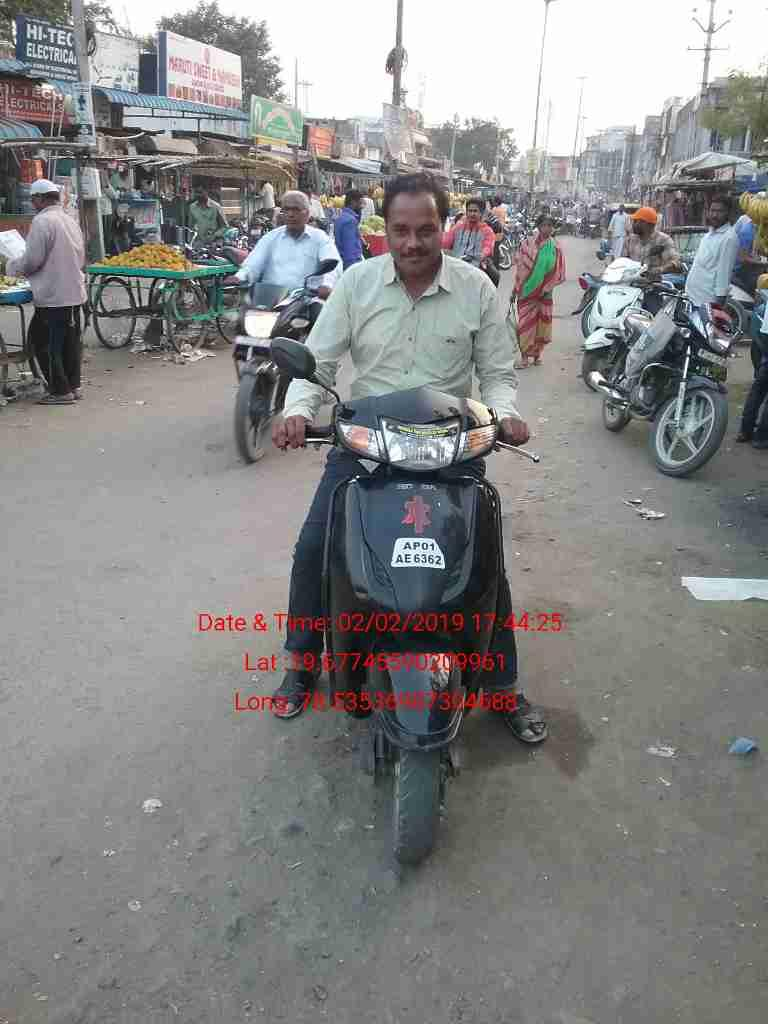plate: (383, 524, 458, 582)
